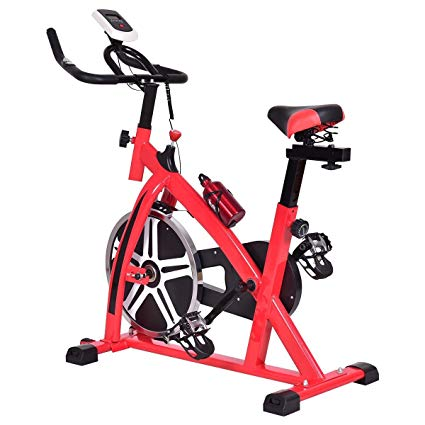gym_bike: (43, 15, 384, 417)
